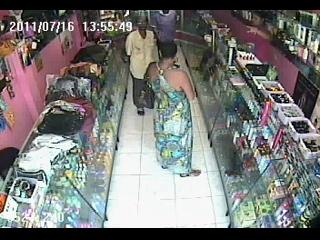Normal: (146, 42, 200, 177), (125, 16, 160, 116), (150, 11, 179, 60)
